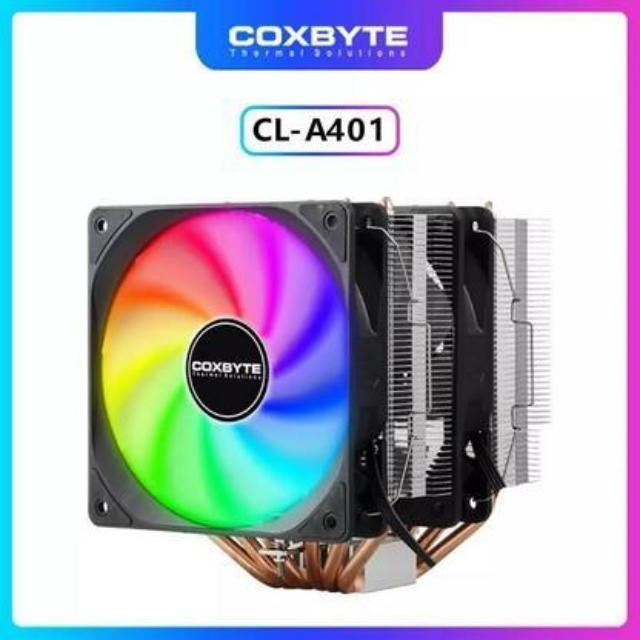CPU_Fan: (82, 193, 558, 598)
